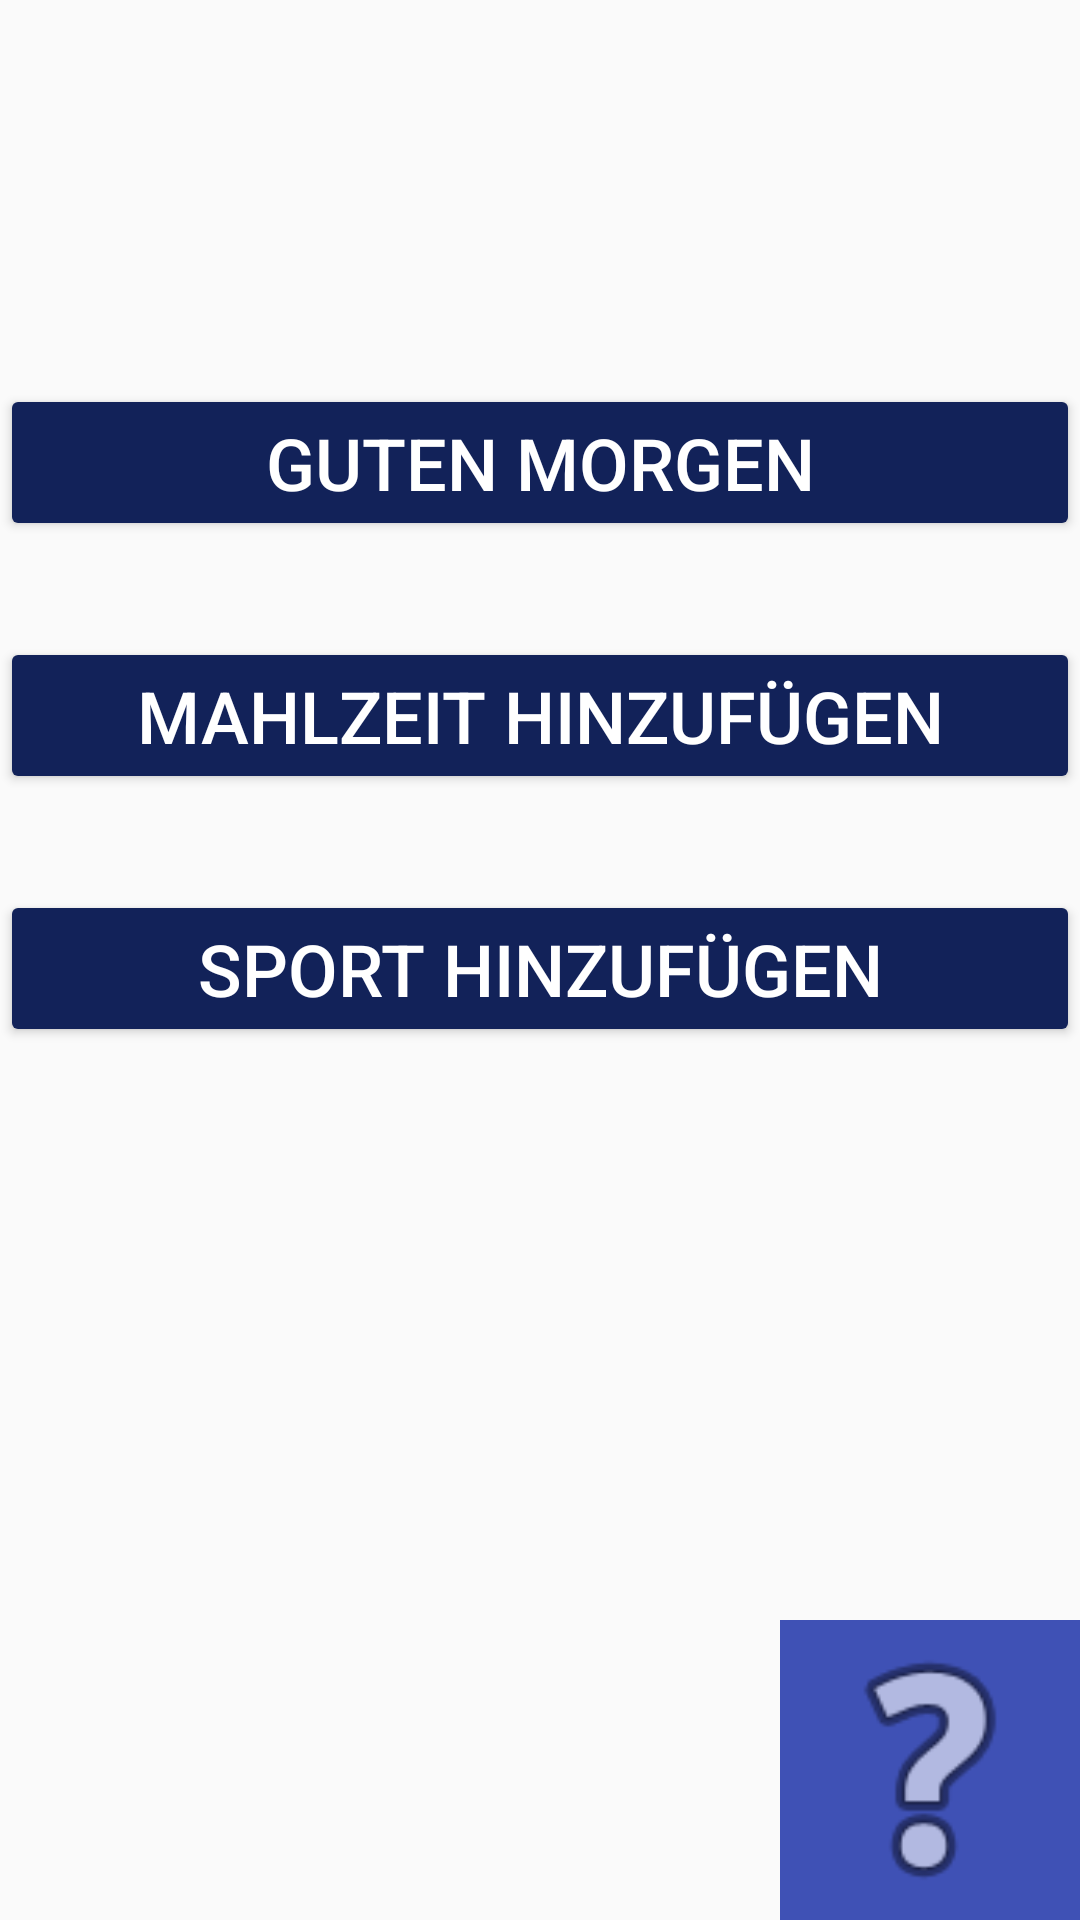

Screen size 1080×1920. Icon name, then its center in pixels as point (x, y):
help: point (930, 1770)
